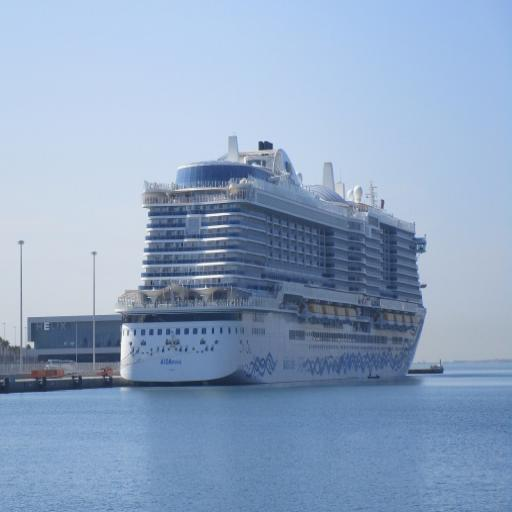cruises: (117, 130, 433, 395)
